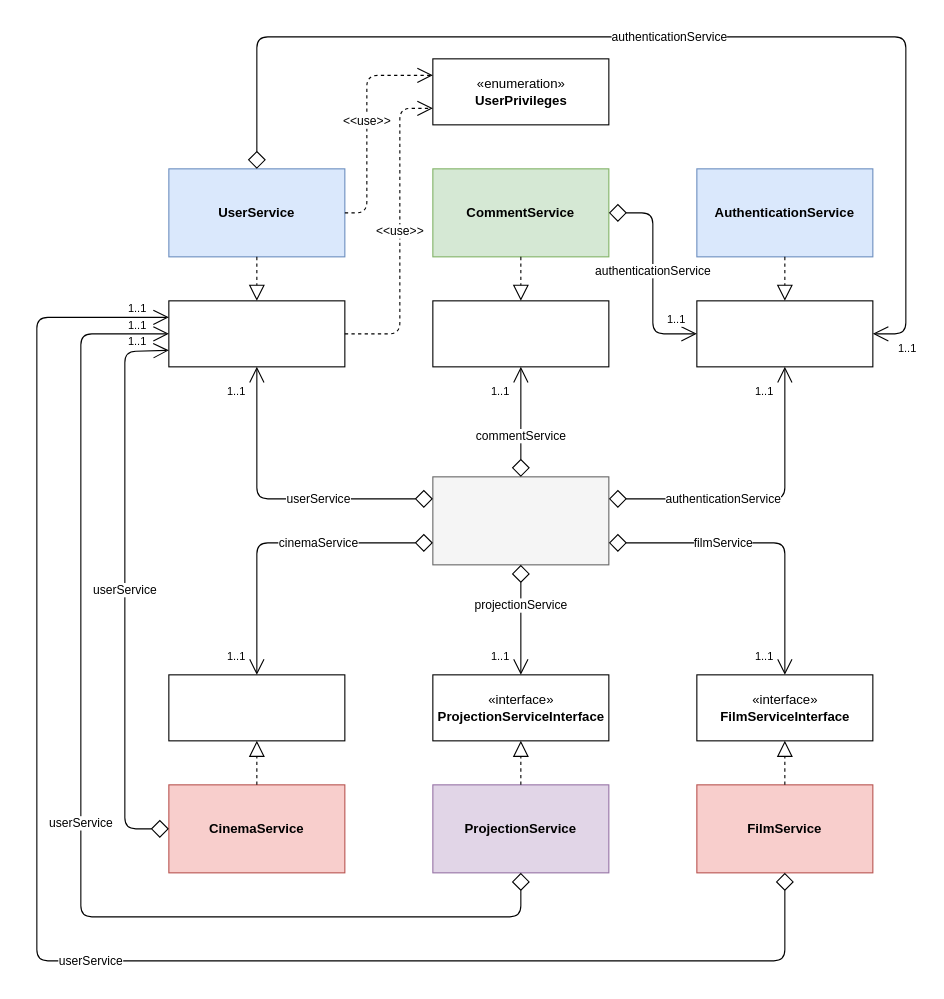
Some shapes in this 944 by 999 pixel diagram are drawn without their labels. Each missing label, with the box of its shape:
PisaFlixServices: (432, 476, 609, 565)
«interface» Authentication- -ServiceInterface: (696, 300, 873, 367)
«interface» CinemaServiceInterface: (168, 674, 345, 741)
«interface» CommentServiceInterface: (432, 300, 609, 367)
«interface» UserServiceInterface: (168, 300, 345, 367)
